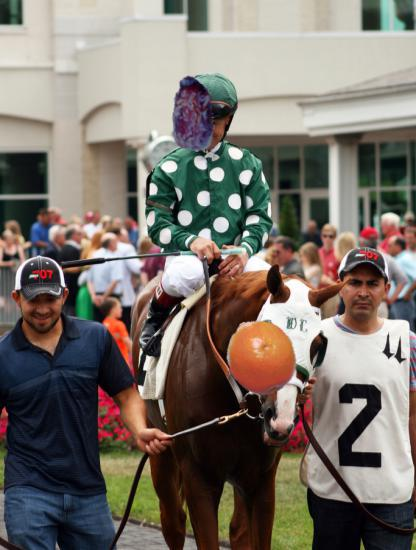Dates: (154, 75, 232, 153)
Tangelo: (222, 318, 300, 396)
